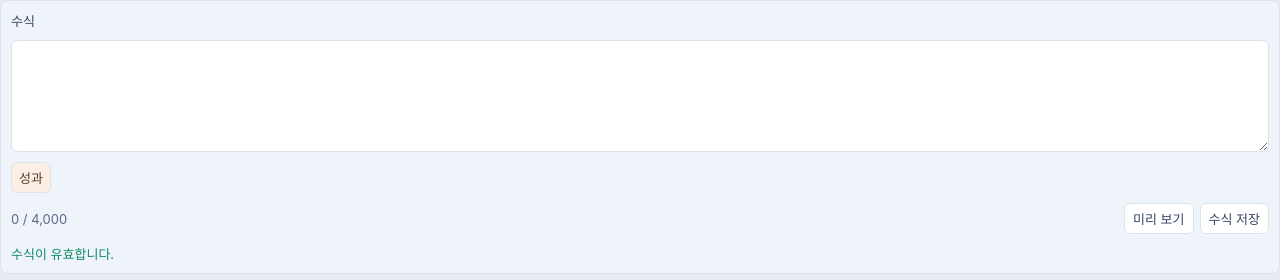
Test: formula and rollup editors › shows a property name token, sends the stable property ID and moves diagnostics onto the shown source
Click the button "성과" at (31, 178), box x1=11 y1=162 x2=51 y2=193
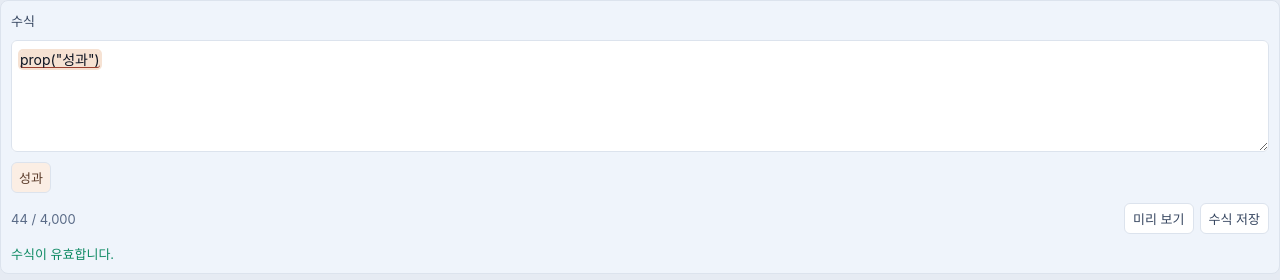
expect the text box labelled "수식" holds "prop(\"성과\")": met
expect the text "prop(\"성과\")" is shown: met, box x1=20 y1=51 x2=100 y2=68
Replace the text in the text box labelled "수식" with "prop(\"성과\") + x" at (640, 96), box x1=11 y1=40 x2=1269 y2=152
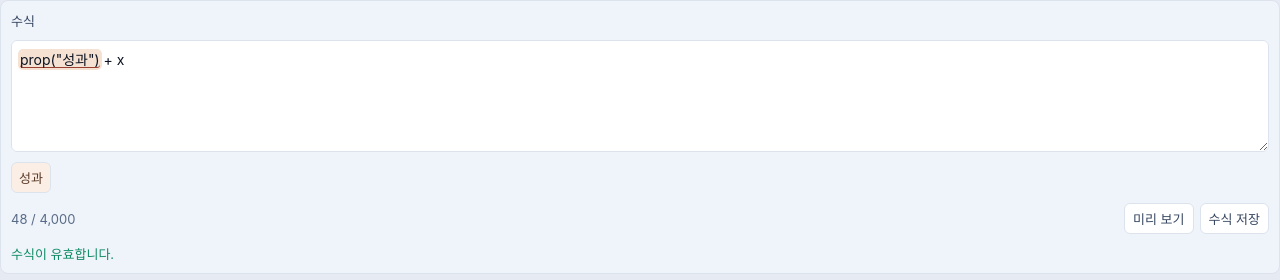
Click the button "수식 저장" at (1234, 218), box x1=1200 y1=203 x2=1269 y2=234
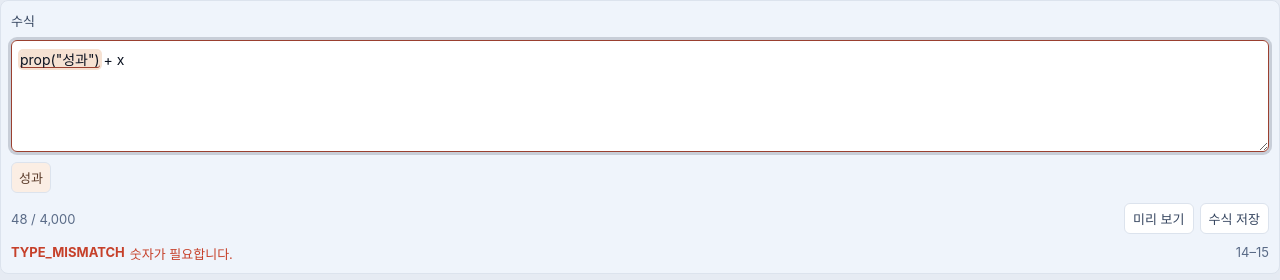
expect the text "TYPE_MISMATCH" is shown: met, box x1=11 y1=244 x2=125 y2=263
expect the text "14–15" is shown: met, box x1=1236 y1=244 x2=1269 y2=263
